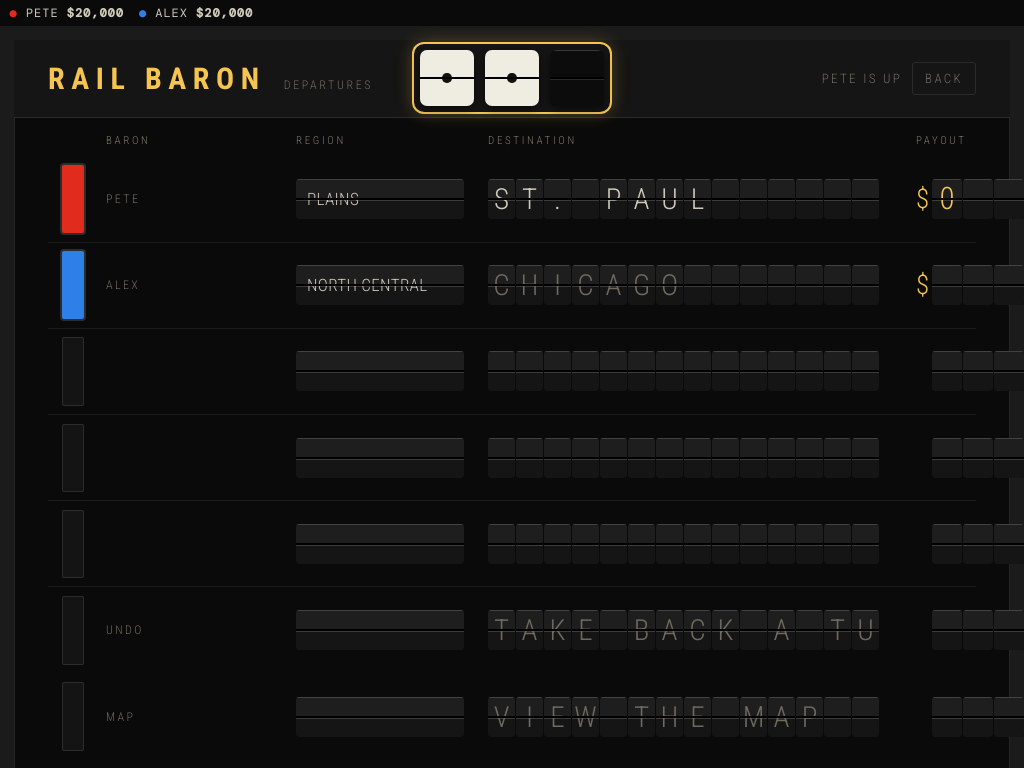
Test: rolling the turn dice from the board › holds the roll back until the drums have told it, then names the faces
What coordinates should you click on to do the following:
click the button named "roll the dice"
I would click on:
 (512, 78)
Its box is left=414, top=44, right=610, bottom=112.
Wait 4156 ms
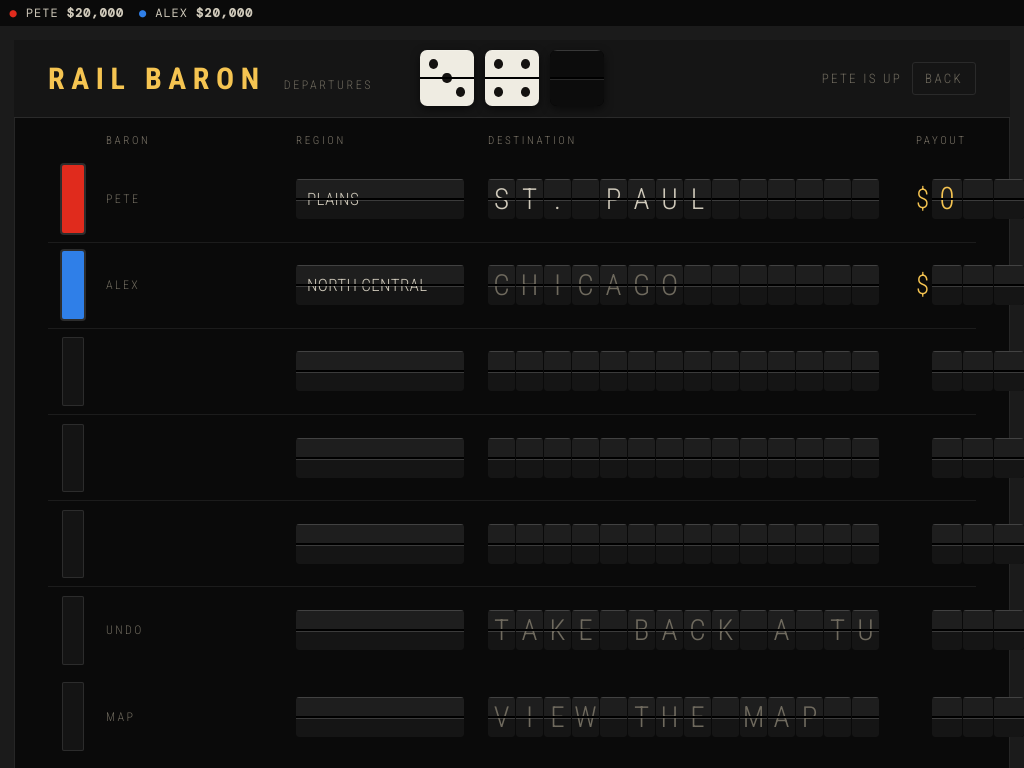
Expected: the picture named "White die, 3" is shown, left=420, top=50, right=474, bottom=106
Expected: the picture named "White die, 4" is shown, left=485, top=50, right=539, bottom=106
